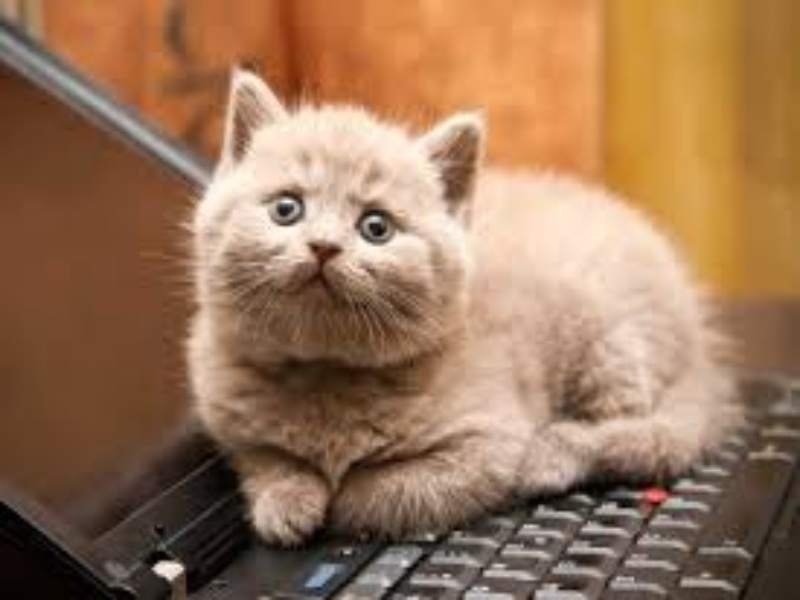cat: (177, 63, 737, 550)
